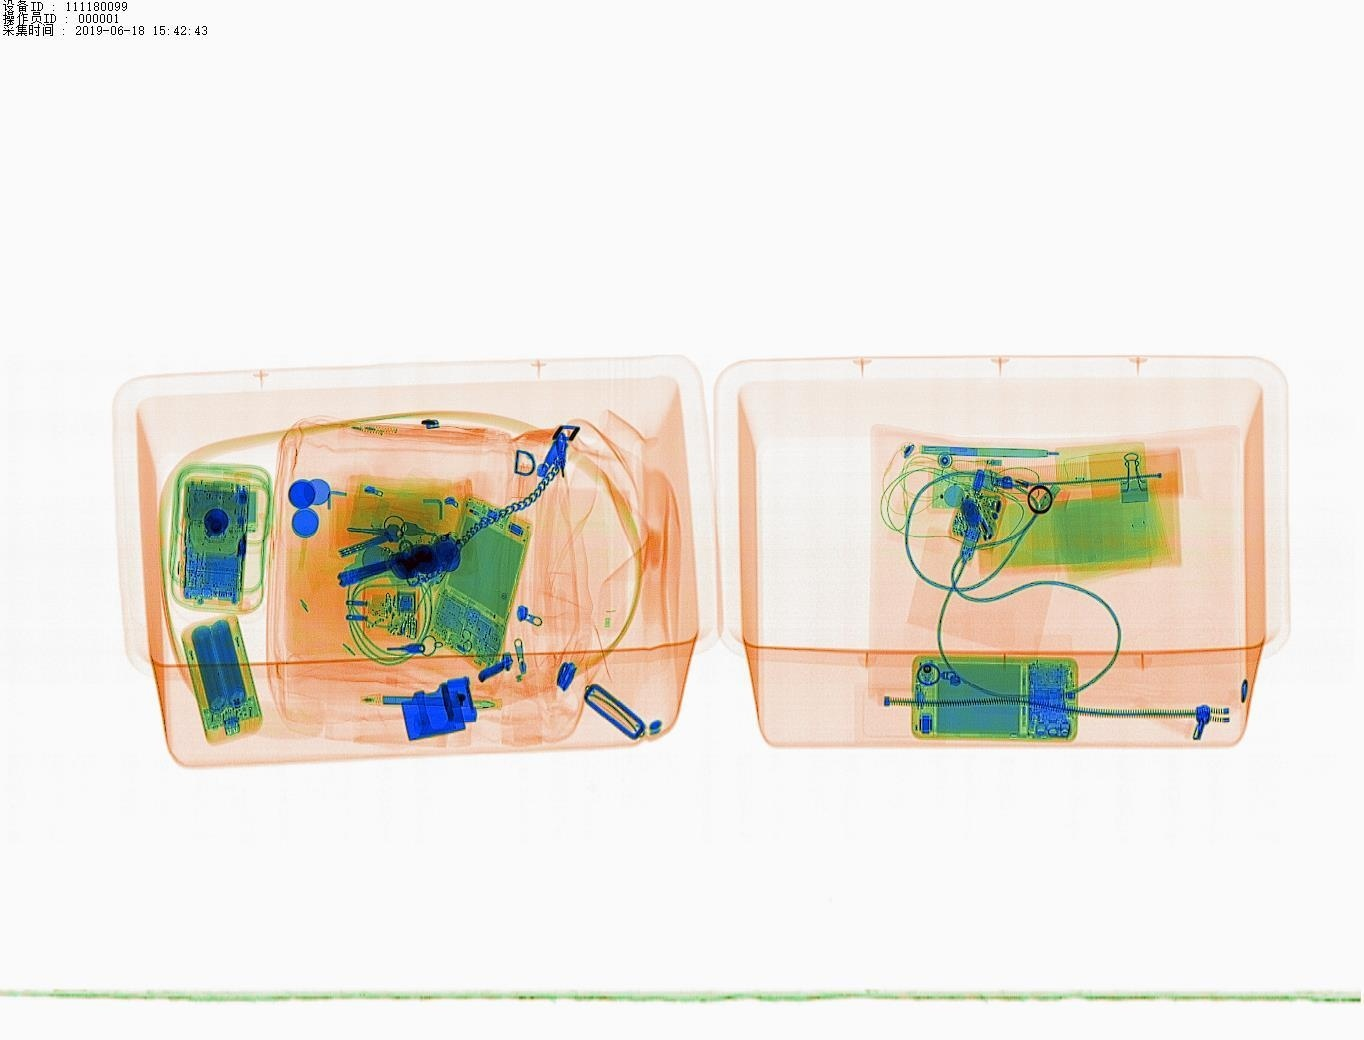NonmetallicFire: (956, 463, 1070, 523)
